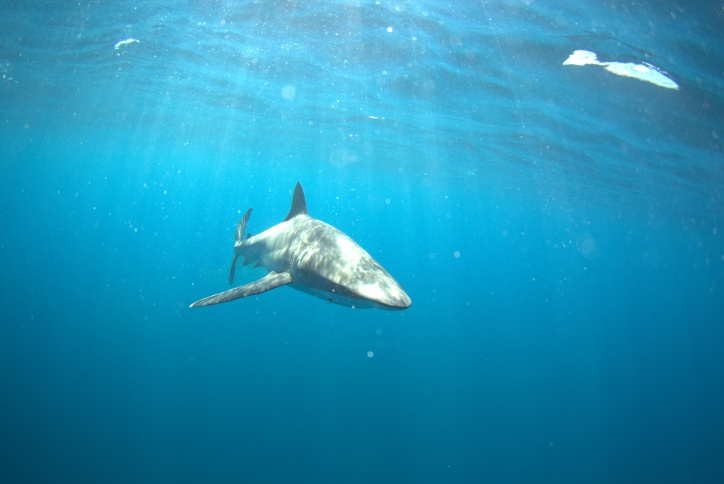Sedoso: (178, 176, 426, 324)
